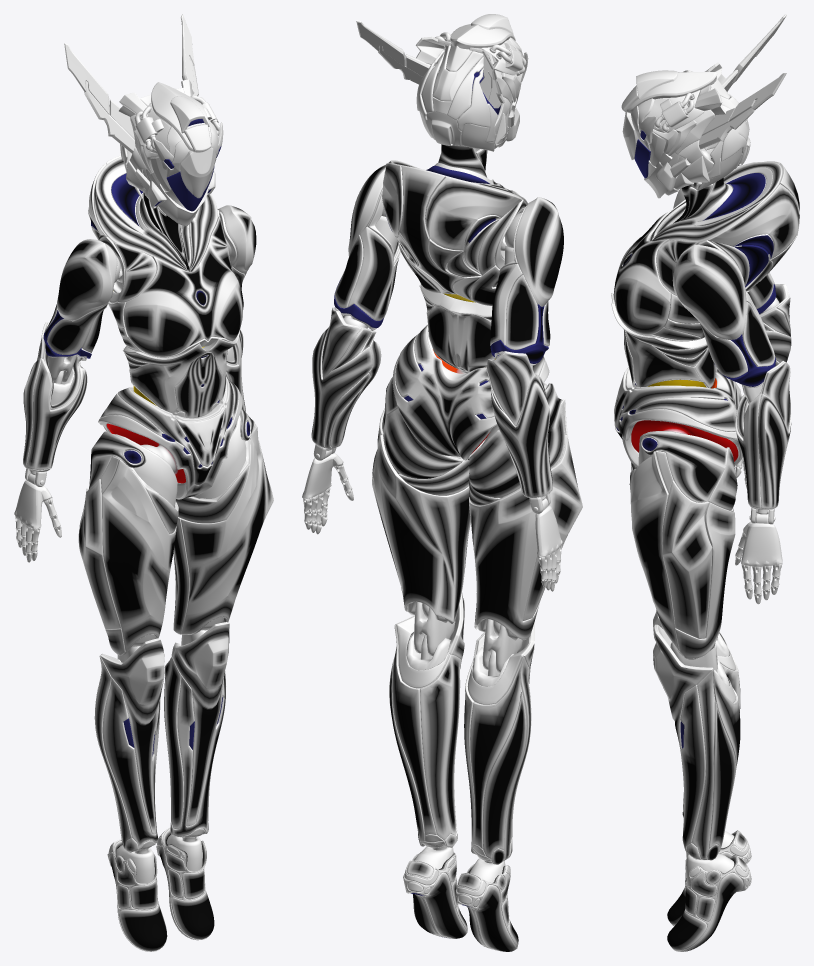
File: Dyan_v06_t05.fbx
The picture shows the model from 3 angles, left to right: view 1: azimuth 30°, elevation 25°; view 2: azimuth 150°, elevation 25°; view 3: azimuth 270°, elevation 25°; orthographic projection. The views are drawn at different scales.
Parts seen in each view (by area): view 1: Plane.047, Plane.048, Plane.106, Plane.038, bodyLine.030, Plane.045, Plane.042, Plane.043, tightMesh.001, Ear, palm, footMesh.001 (+11 smaller); view 2: Plane.047, Plane.048, Plane.106, Plane.038, Plane.043, Plane.045, bodyLine.030, JawCorner, palm, Plane.042, calfMesh.001, Ear (+7 smaller); view 3: Plane.047, Plane.106, Plane.048, Plane.038, Plane.043, Plane.045, bodyLine.030, Plane.042, palm, Ear, JawCorner, TopSocket (+14 smaller).
Part boxes in pixels (box(x1,y1,x2,y2)): Plane.047: box(78, 409, 273, 655); Plane.048: box(94, 622, 229, 852); Plane.106: box(88, 155, 242, 357); Plane.038: box(43, 205, 256, 360); bodyLine.030: box(107, 827, 214, 951); Plane.045: box(98, 376, 242, 499); Plane.042: box(123, 329, 240, 418); Plane.043: box(23, 322, 245, 471); tightMesh.001: box(113, 415, 246, 646); Ear: box(64, 14, 198, 153); palm: box(14, 468, 61, 562); footMesh.001: box(116, 834, 202, 883); Plane.047: box(372, 377, 582, 640); Plane.048: box(389, 592, 534, 864); Plane.106: box(382, 144, 527, 305); Plane.038: box(334, 164, 563, 365); Plane.043: box(311, 307, 552, 497); Plane.045: box(392, 325, 549, 460); bodyLine.030: box(403, 846, 518, 951); JawCorner: box(416, 45, 497, 142); palm: box(302, 444, 562, 591); Plane.042: box(419, 283, 495, 372); calfMesh.001: box(407, 602, 522, 861); Ear: box(356, 20, 504, 108); Plane.047: box(629, 433, 737, 659); Plane.106: box(613, 158, 799, 341); Plane.048: box(653, 610, 740, 860); Plane.038: box(672, 188, 776, 387); Plane.043: box(735, 284, 791, 509); Plane.045: box(614, 367, 742, 466); bodyLine.030: box(667, 830, 751, 951); Plane.042: box(611, 293, 716, 388); palm: box(735, 456, 782, 604); Ear: box(698, 14, 786, 149); JawCorner: box(707, 78, 748, 178); TopSocket: box(626, 72, 717, 113).
Bounding box in the file's own units: 48.34 × 179 × 34.28.
